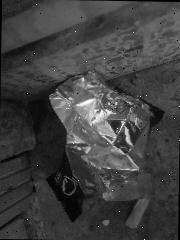general: (48, 68, 156, 202), (44, 162, 84, 222)
